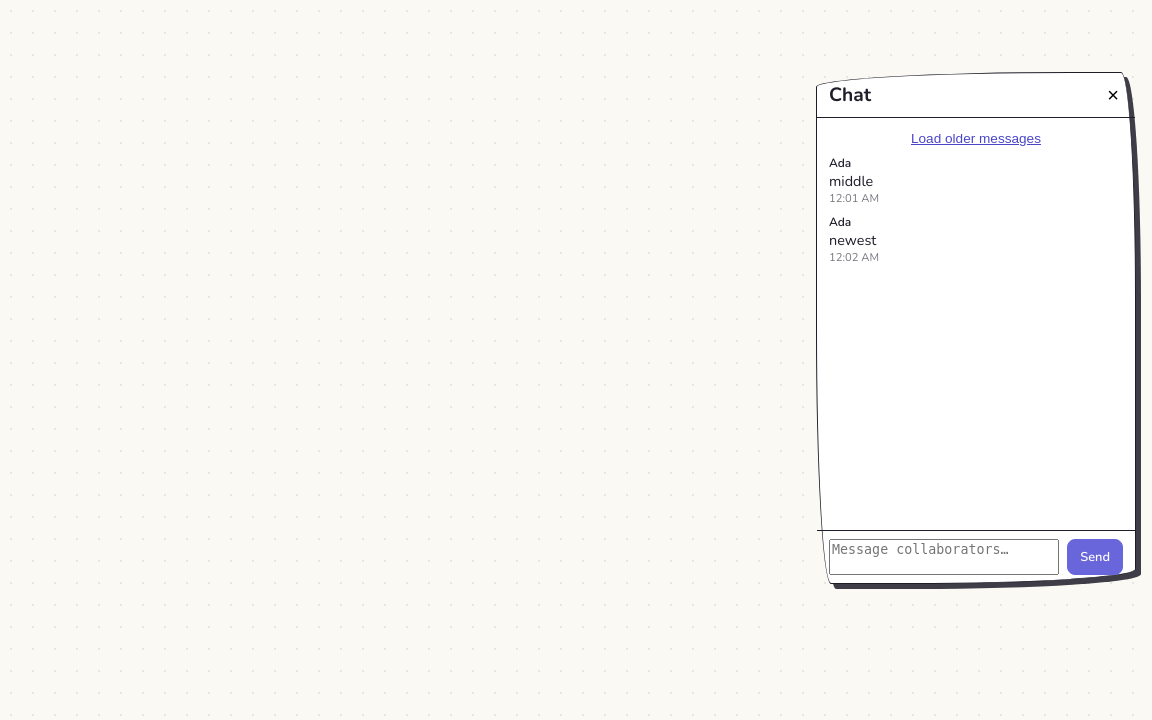
Test case: ChatPanel › keeps chronological order when a reconnect reloads after older pages
Click the button "Load older messages" at (976, 138), box left=829, top=130, right=1123, bottom=147
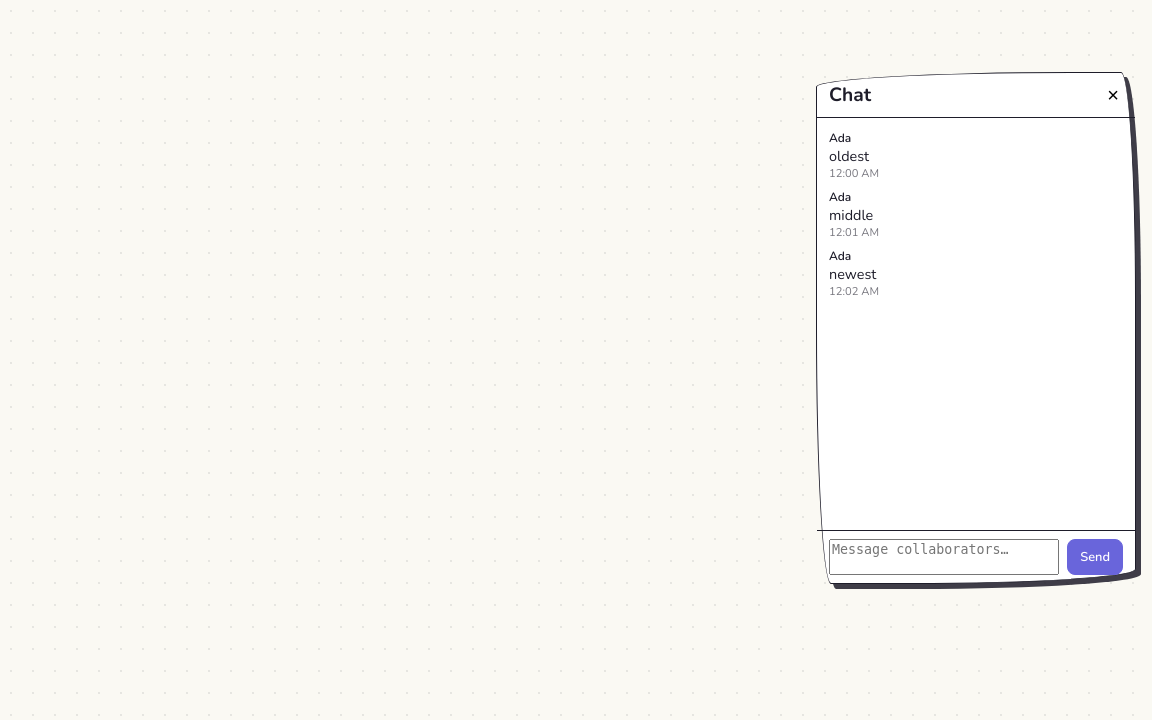
expect the text "oldest" is shown: met, box left=829, top=146, right=869, bottom=166
